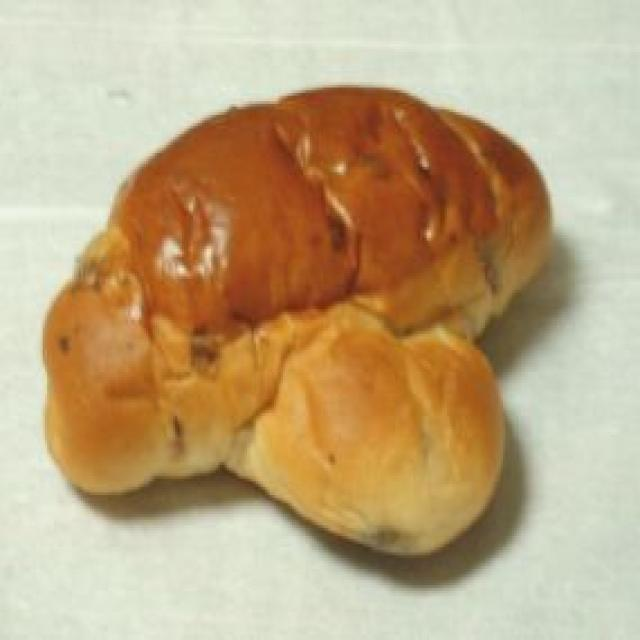面包点心: (27, 66, 564, 564)
